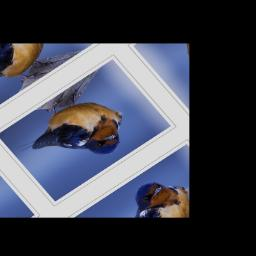Swallow: (1, 76, 142, 193)
